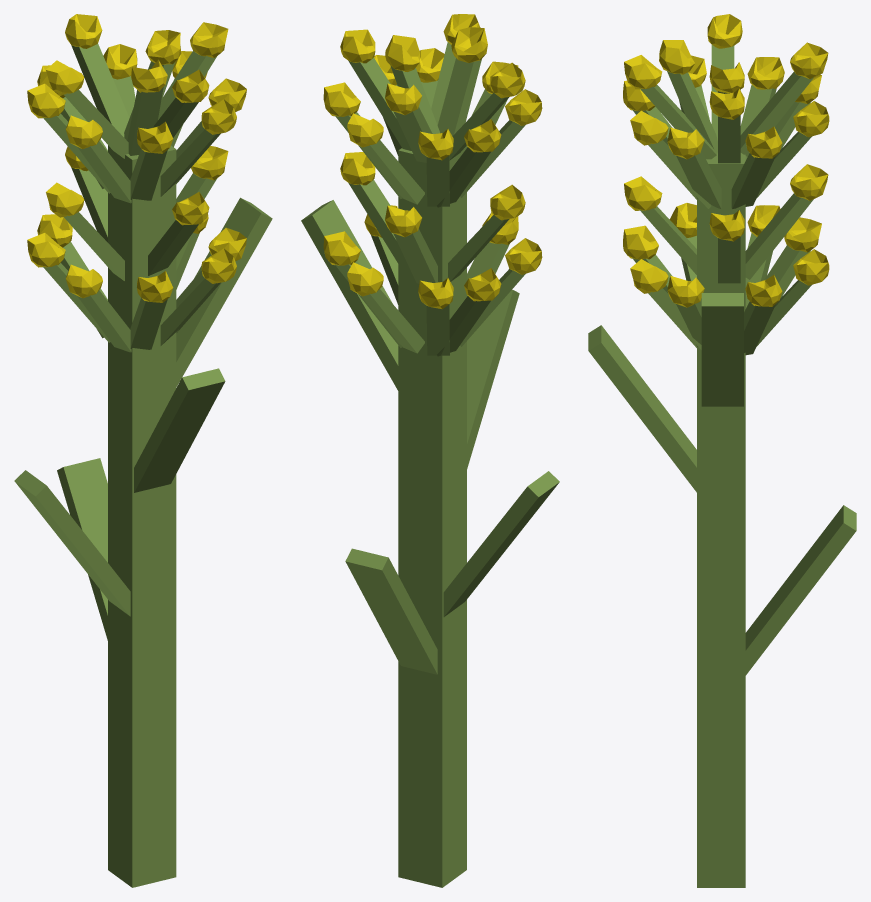
Rendered from herb11.fbx.
3 renders of one model, left to right at view 1: azimuth 30°, elevation 25°; view 2: azimuth 150°, elevation 25°; view 3: azimuth 270°, elevation 25°, orthographic.
Visible parts, largest first — view 1: Cube_11; view 2: Cube_11; view 3: Cube_11.
Boxes of the visible parts, x1,y1,x2,y2 form: Cube_11: (14,14,272,887); Cube_11: (301,14,559,887); Cube_11: (588,14,856,887).
Size of the model in its own units: 32.39 by 108 by 31.82.
